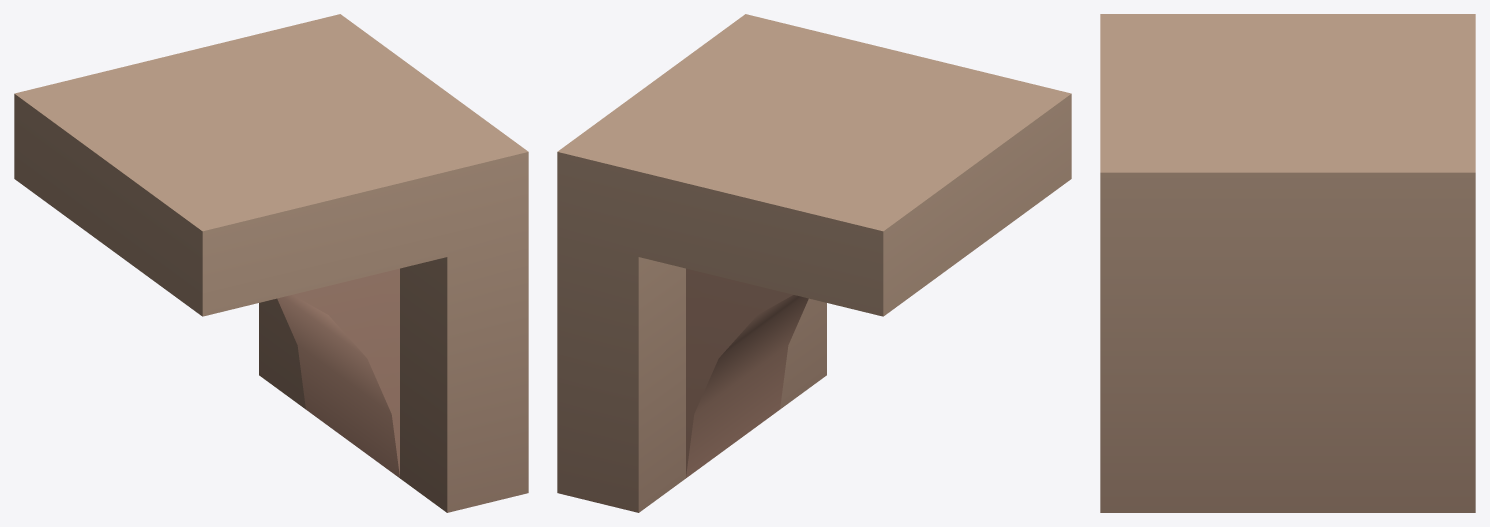
File: corners-corner-detailed-a.glb
The picture shows the model from 3 angles, left to right: view 1: azimuth 30°, elevation 25°; view 2: azimuth 150°, elevation 25°; view 3: azimuth 270°, elevation 25°; orthographic projection.
Visible parts, largest first — view 1: corners-corner-detailed-a; view 2: corners-corner-detailed-a; view 3: corners-corner-detailed-a.
Boxes of the visible parts, box(x1,y1,x2,y2) form: corners-corner-detailed-a: box(14, 14, 528, 512); corners-corner-detailed-a: box(557, 14, 1071, 512); corners-corner-detailed-a: box(1100, 14, 1475, 512).
Size of the model in its own units: 0.2 by 0.2 by 0.2.
